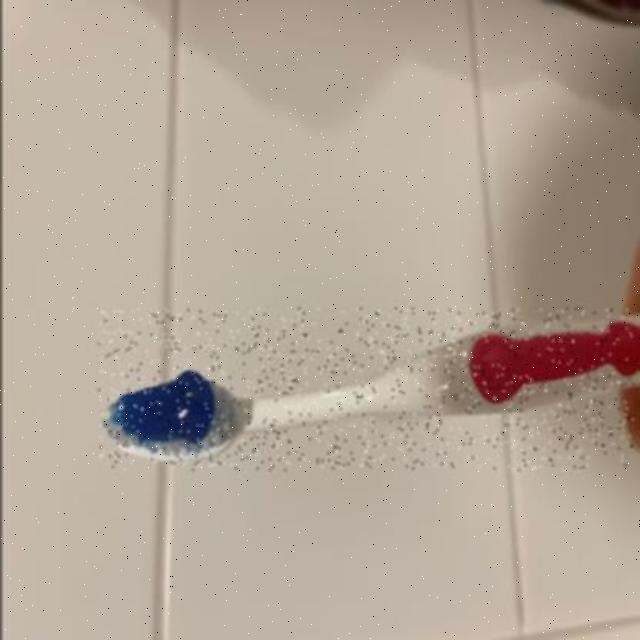toothbrush: (98, 308, 632, 472)
